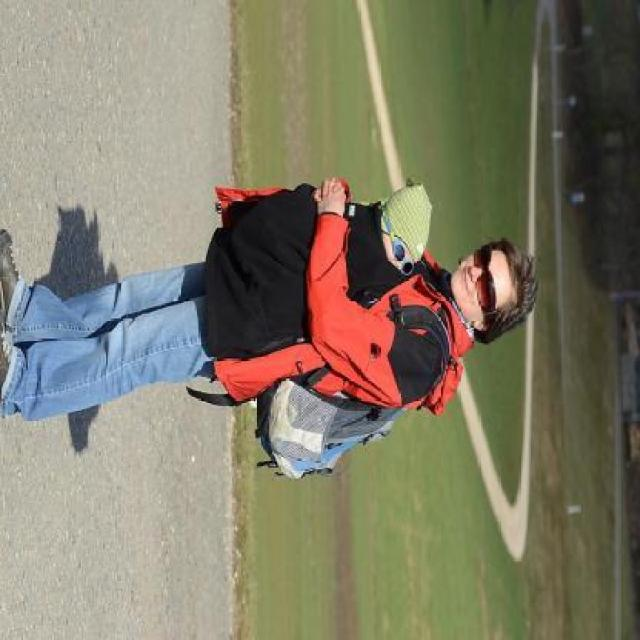backpack: (254, 371, 409, 489)
